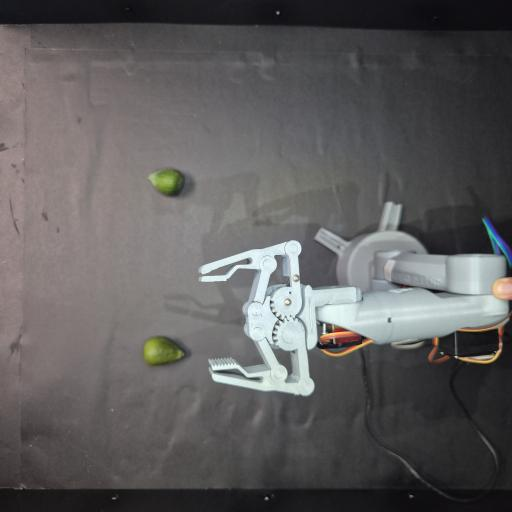higo: (143, 337, 184, 365), (148, 169, 184, 196)
